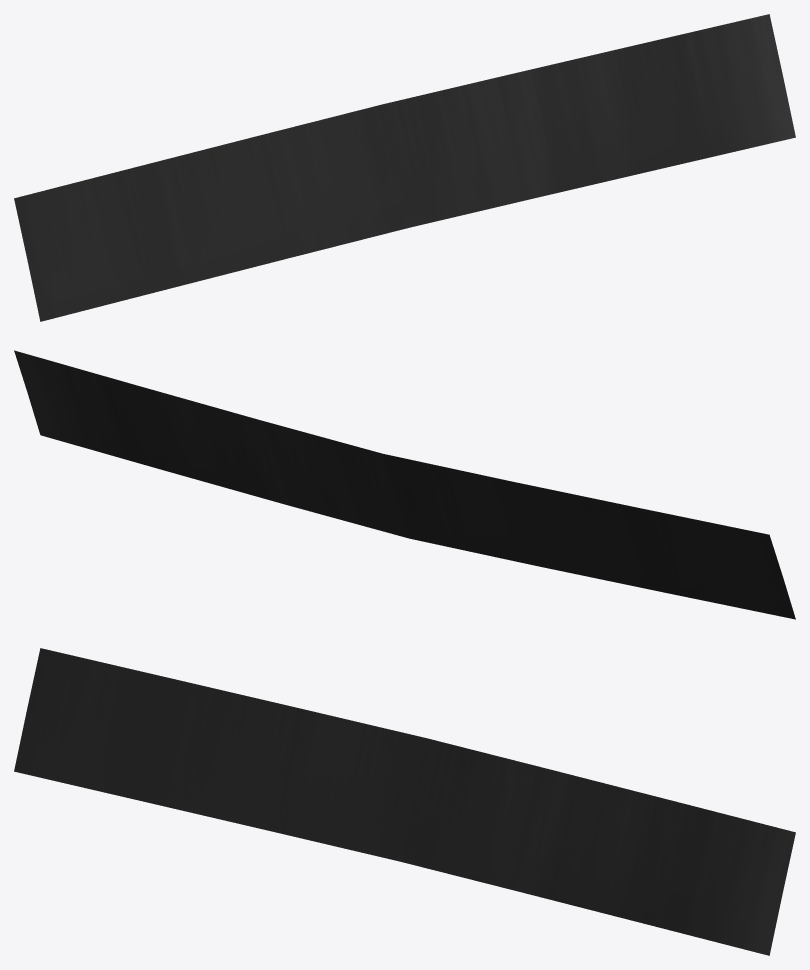
The model's file is rcfBacking.obj.
The picture shows the model from 3 angles, top to bottom: view 1: azimuth 30°, elevation 25°; view 2: azimuth 150°, elevation 25°; view 3: azimuth 330°, elevation 25°; orthographic projection.
Visible parts, largest first — view 1: rcfRearBacking; view 2: rcfRearBacking; view 3: rcfRearBacking.
Part boxes in pixels (x1,y1,x2,y2): rcfRearBacking: (14,14,795,321); rcfRearBacking: (14,350,795,619); rcfRearBacking: (14,648,795,955).
Size of the model in its own units: 75.07 by 10.33 by 6.08.
Materials: 1 (1 with a texture image).
